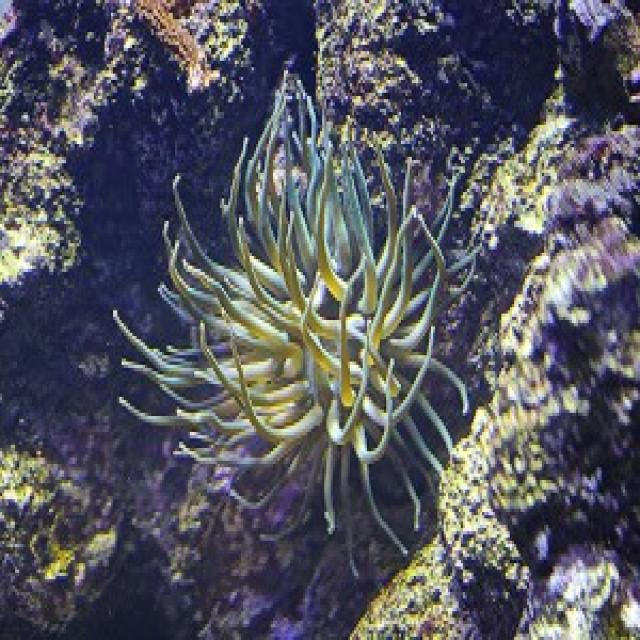Coral: (111, 67, 481, 579)
